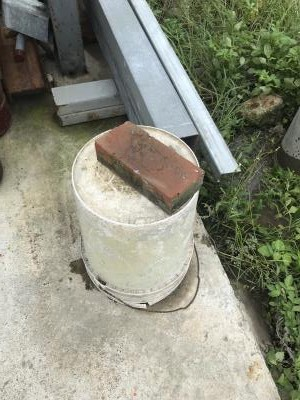bucket: (68, 120, 205, 309)
